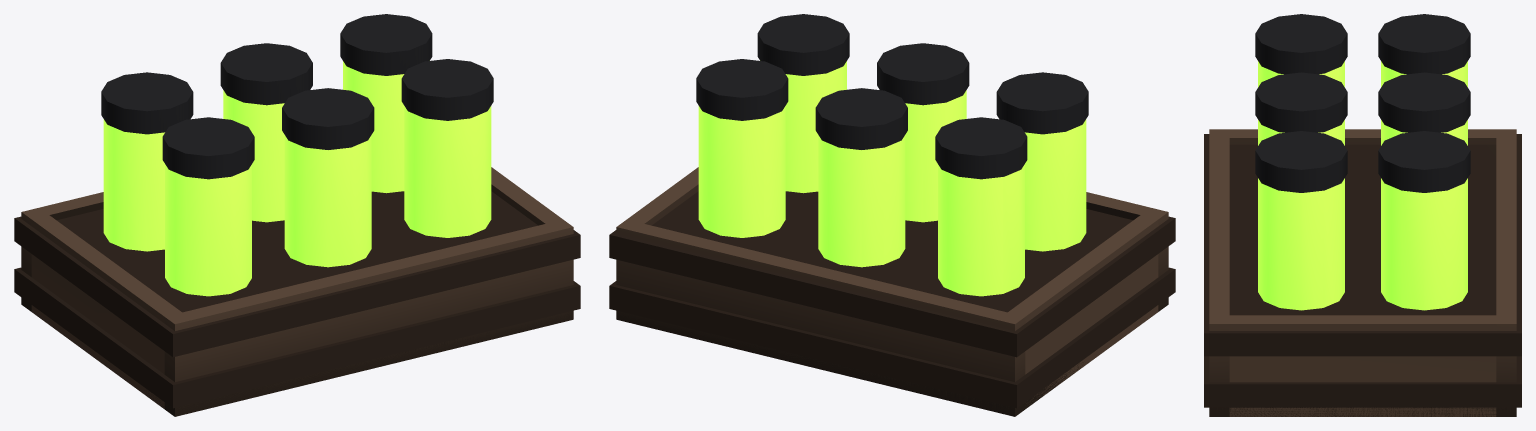
Rendered from fenlight_crate.glb.
The picture shows the model from 3 angles, left to right: view 1: azimuth 30°, elevation 25°; view 2: azimuth 150°, elevation 25°; view 3: azimuth 270°, elevation 25°; orthographic projection.
Parts seen in each view (by area): view 1: FenlightCrate; view 2: FenlightCrate; view 3: FenlightCrate.
Part boxes in pixels (left/top/right/bottom): FenlightCrate: left=14, top=14, right=580, bottom=416; FenlightCrate: left=609, top=14, right=1175, bottom=416; FenlightCrate: left=1204, top=14, right=1521, bottom=416.
Size of the model in its own units: 0.92 by 0.49 by 0.62.
